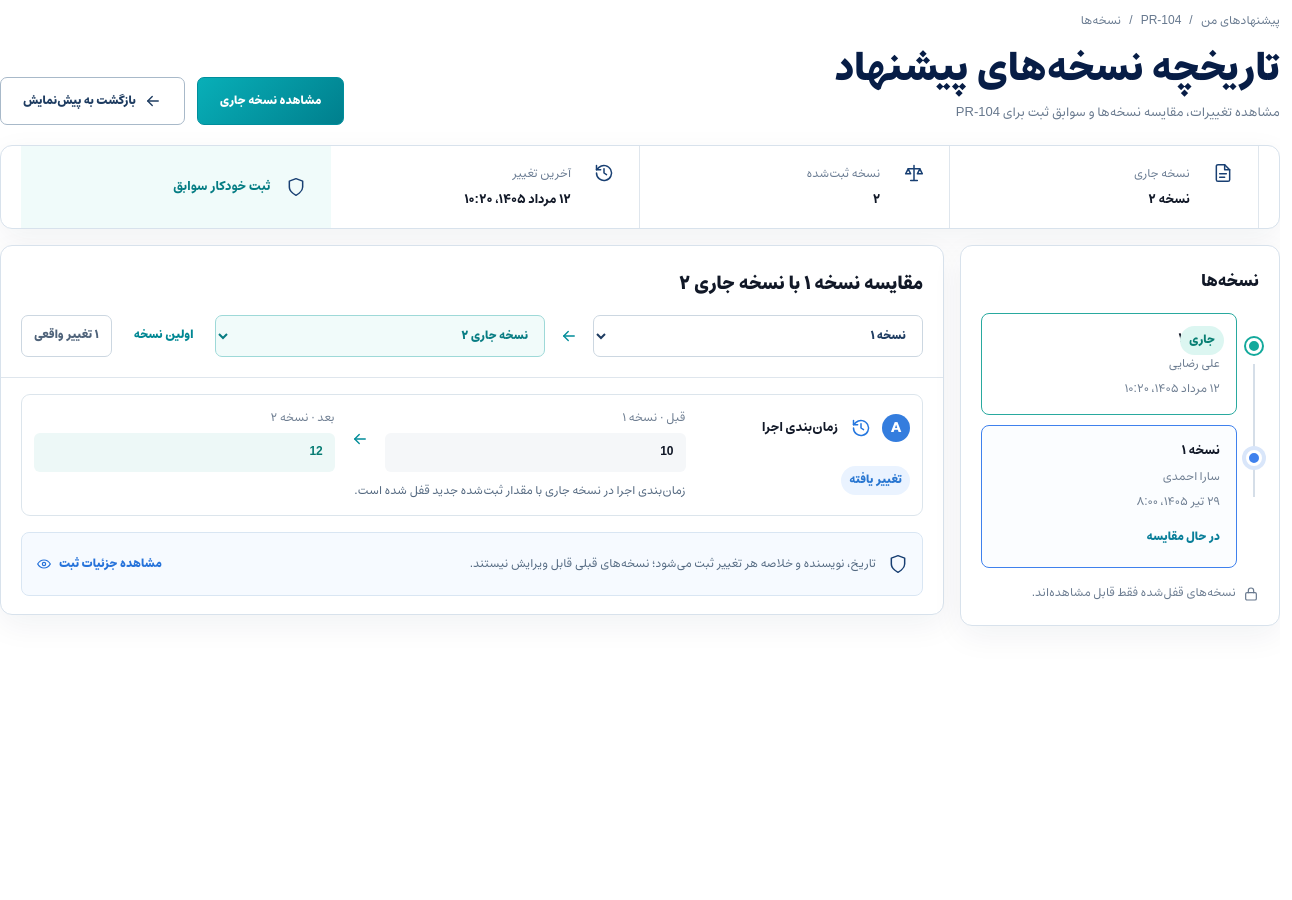
Test case: اصلاحات رابط Solver نسخه ۲۹ › تاریخچه پیشنهاد timeline و diff واقعی نسخه‌های canonical را نمایش می‌دهد
The width and height of the screenshot is (1292, 900).
Expected: the element named "خلاصه تاریخچه نسخه‌ها" shows "نسخه ۲", [0,146,1280,230]
Expected: the element named "فهرست نسخه‌ها" shows "سارا احمدی", [1162,468,1220,486]
Click the button "مشاهده جزئیات ثبت" at (99,564), box [36,545,162,583]
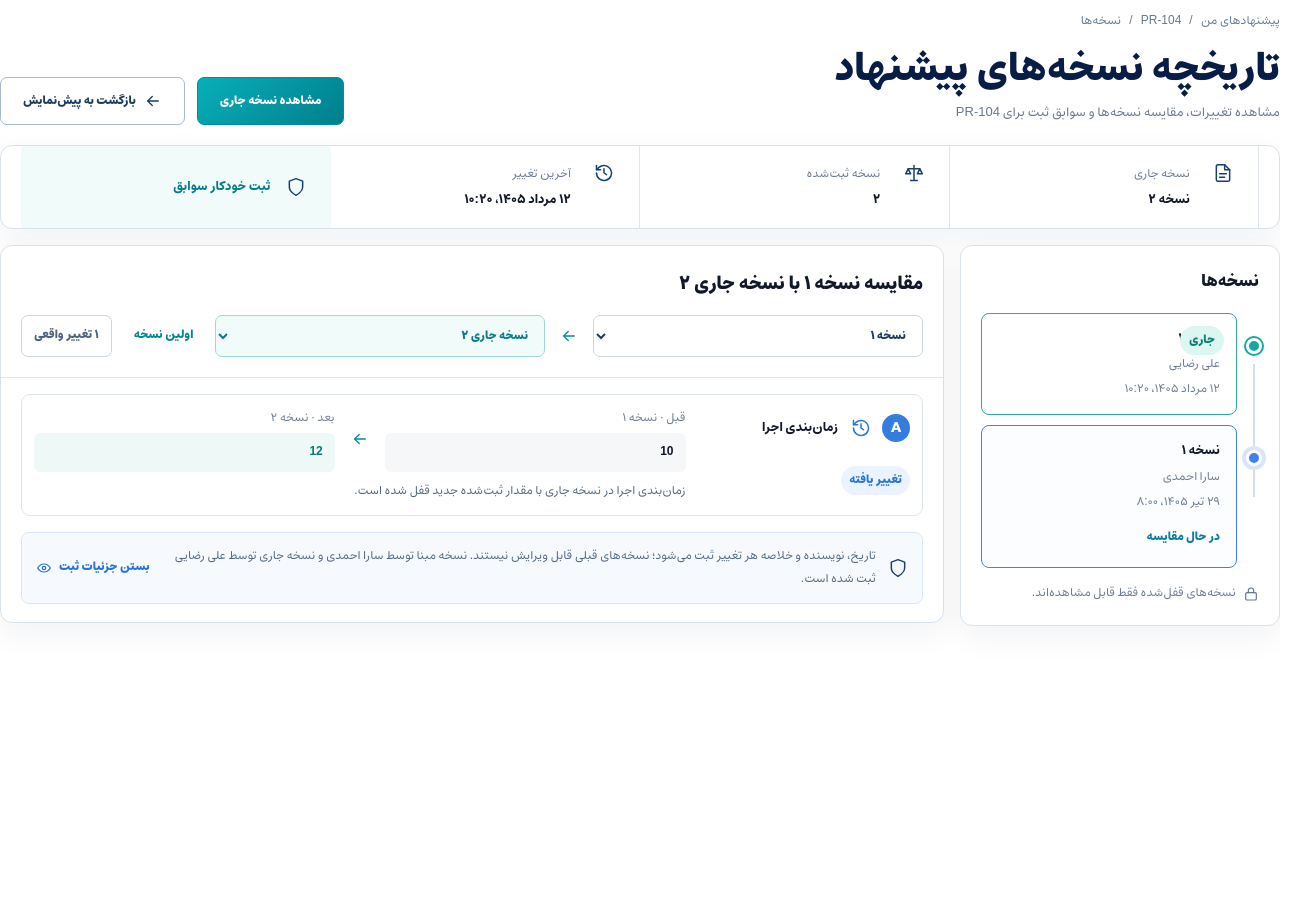
Expected: the text "نسخه مبنا توسط سارا احمدی" is shown, [174,547,876,588]
